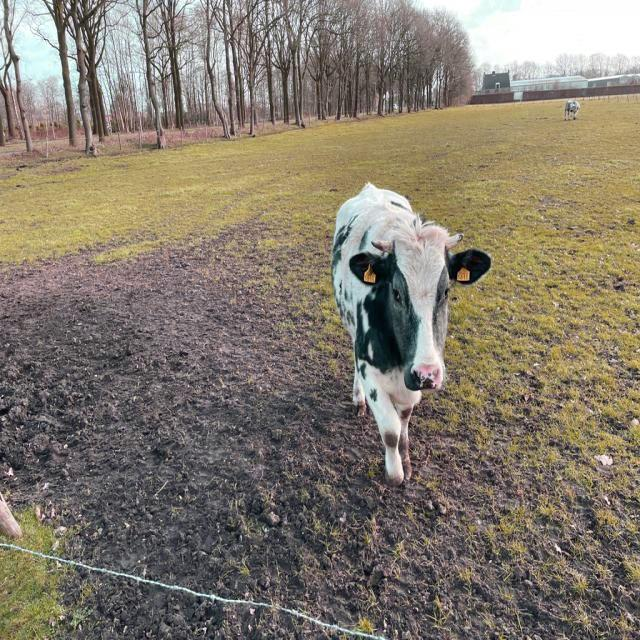cow: (332, 184, 491, 485)
